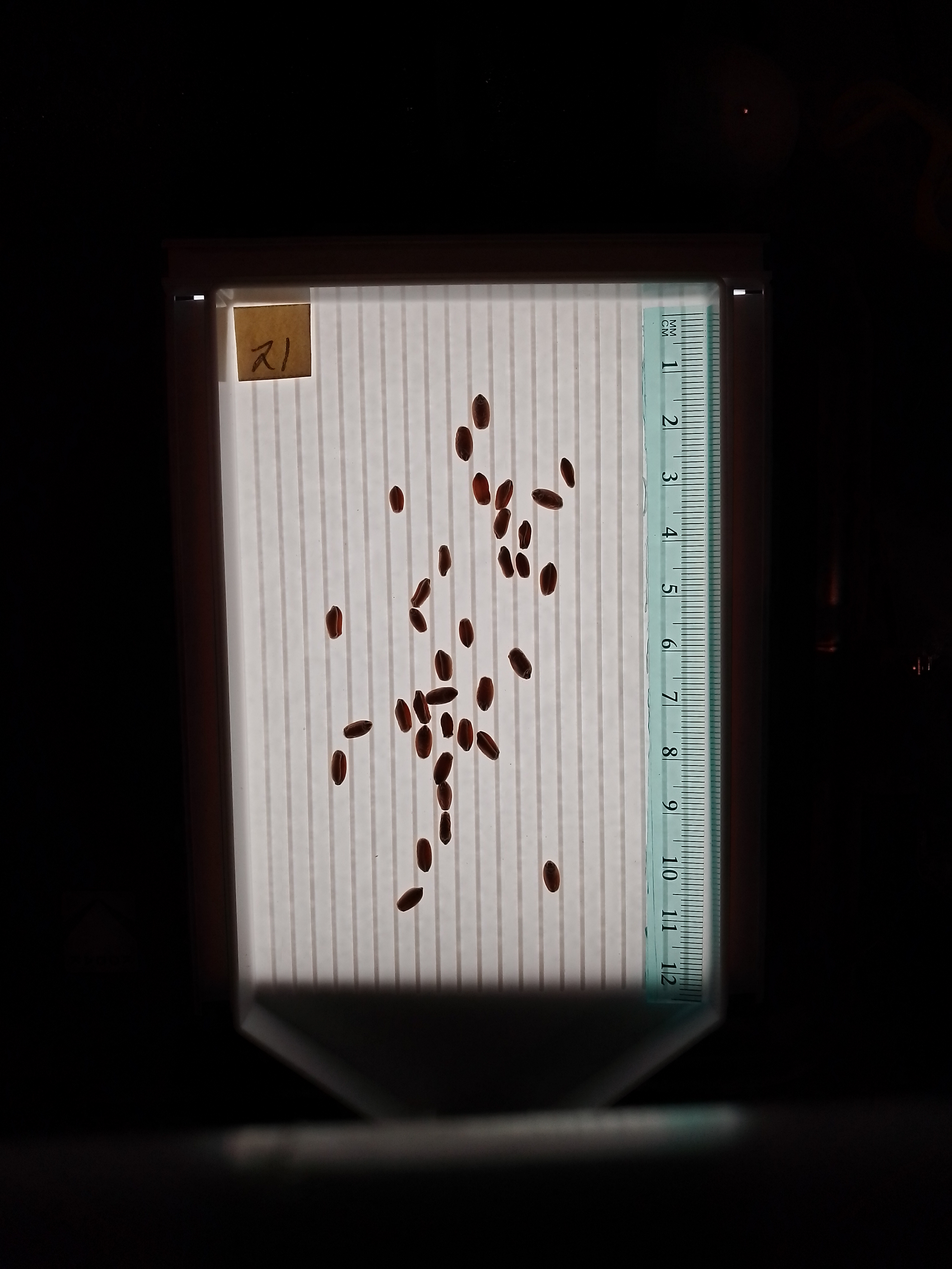seed mask: (509, 648, 532, 679), (532, 488, 563, 510), (397, 887, 423, 911), (433, 753, 453, 784), (477, 732, 499, 760), (455, 427, 473, 461), (472, 396, 490, 429), (494, 479, 513, 510), (330, 751, 347, 785), (473, 474, 491, 506), (412, 578, 431, 607), (427, 687, 456, 706), (326, 606, 343, 638), (413, 691, 430, 723), (395, 700, 412, 732), (435, 651, 453, 681), (477, 677, 493, 710), (540, 564, 557, 595), (344, 720, 371, 739), (543, 862, 560, 892), (417, 838, 432, 872), (416, 727, 432, 758), (458, 719, 473, 751), (493, 509, 510, 537), (498, 548, 513, 578), (389, 486, 405, 513), (459, 619, 474, 647), (561, 458, 575, 487), (410, 608, 426, 633), (518, 521, 532, 549), (438, 784, 452, 810), (440, 814, 452, 844), (439, 546, 451, 575), (516, 555, 530, 578), (440, 714, 453, 737)
